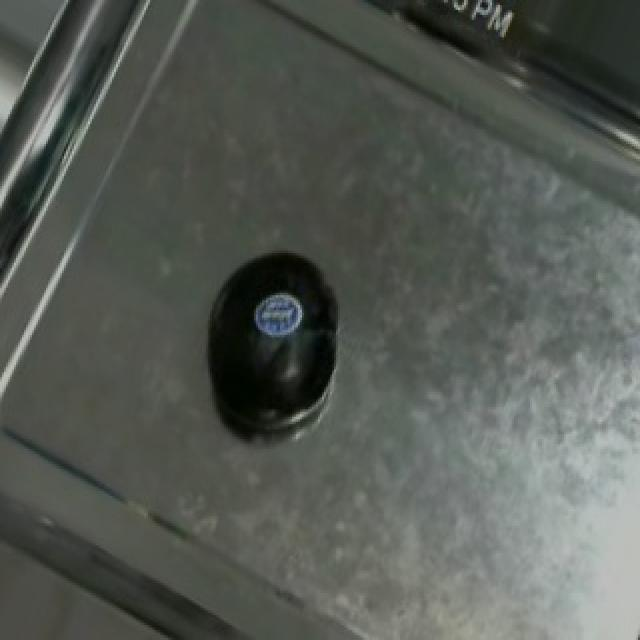Fruit: (186, 266, 366, 447)
